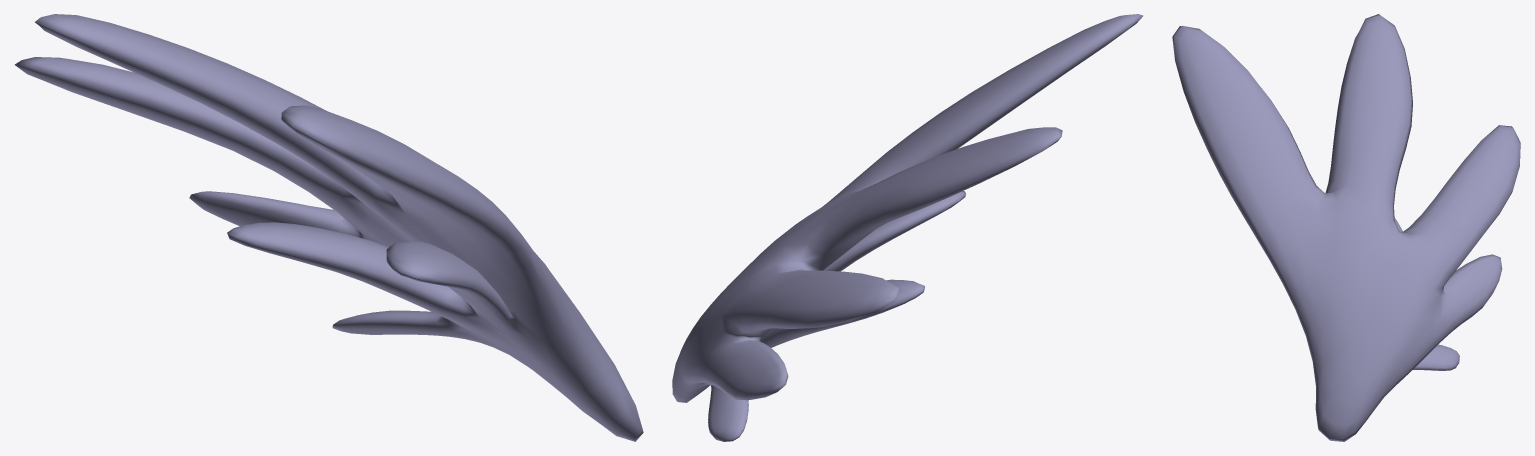
Rendered from rightwing_open.obj.
The picture shows the model from 3 angles, left to right: view 1: azimuth 30°, elevation 25°; view 2: azimuth 150°, elevation 25°; view 3: azimuth 270°, elevation 25°; orthographic projection. The views are drawn at different scales.
Parts seen in each view (by area): view 1: vn_alternatedash_right_wing_normal_spread_vn_alternatedash_right; view 2: vn_alternatedash_right_wing_normal_spread_vn_alternatedash_right; view 3: vn_alternatedash_right_wing_normal_spread_vn_alternatedash_right.
Part boxes in pixels (x1=…): vn_alternatedash_right_wing_normal_spread_vn_alternatedash_right: x1=14, y1=14, x2=643, y2=441; vn_alternatedash_right_wing_normal_spread_vn_alternatedash_right: x1=672, y1=14, x2=1143, y2=441; vn_alternatedash_right_wing_normal_spread_vn_alternatedash_right: x1=1172, y1=14, x2=1520, y2=441.
Size of the model in its own units: 20.84 by 19.04 by 20.72.
